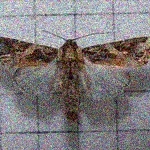Spodoptera litura: (0, 30, 149, 124)
